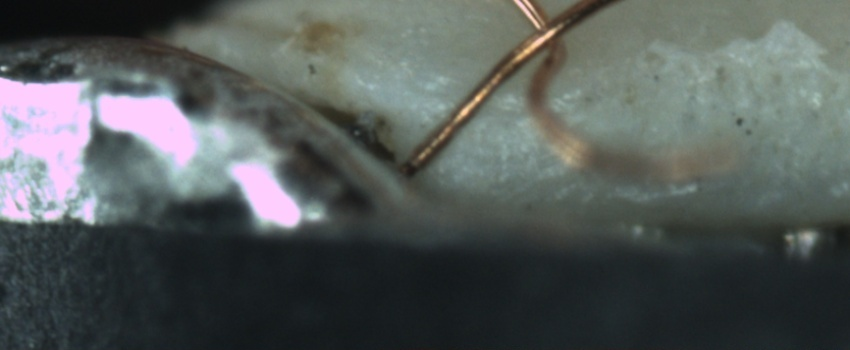CL: (511, 4, 580, 60)
DL: (441, 83, 579, 147)
